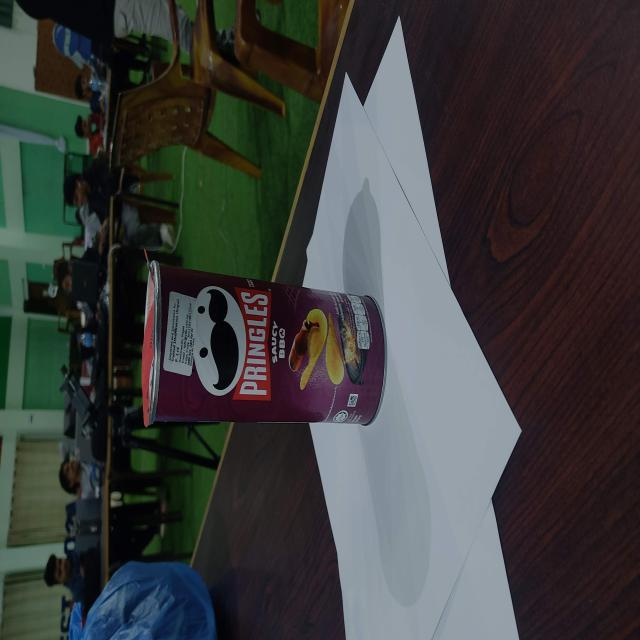Pringles: (141, 258, 387, 428)
